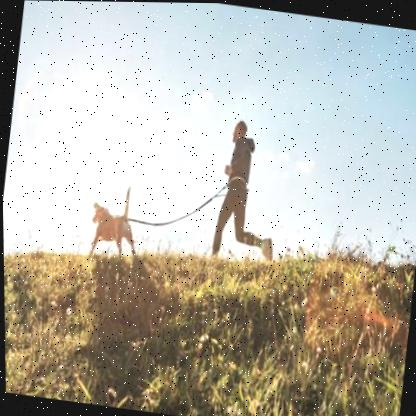dog: (79, 179, 150, 267)
person: (193, 107, 292, 269)
